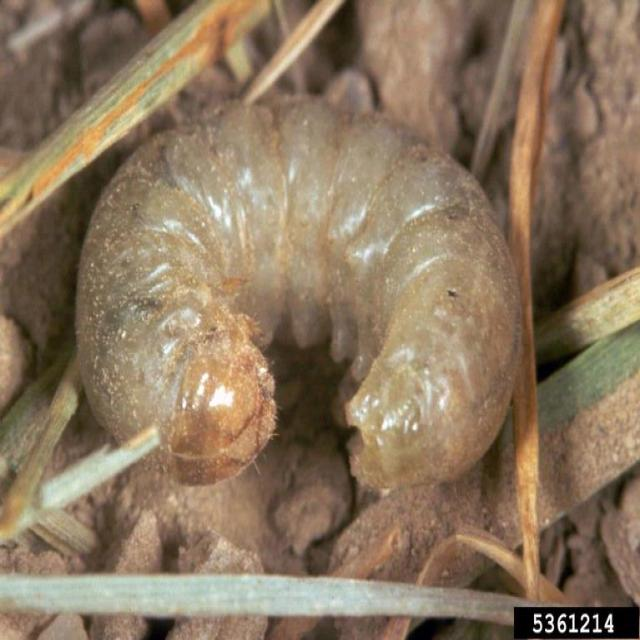worm: (74, 92, 524, 494)
